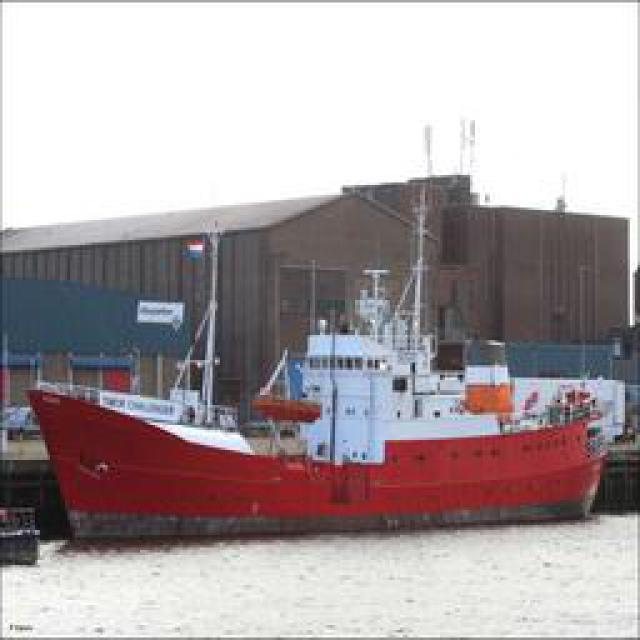Ship: (23, 202, 611, 535)
